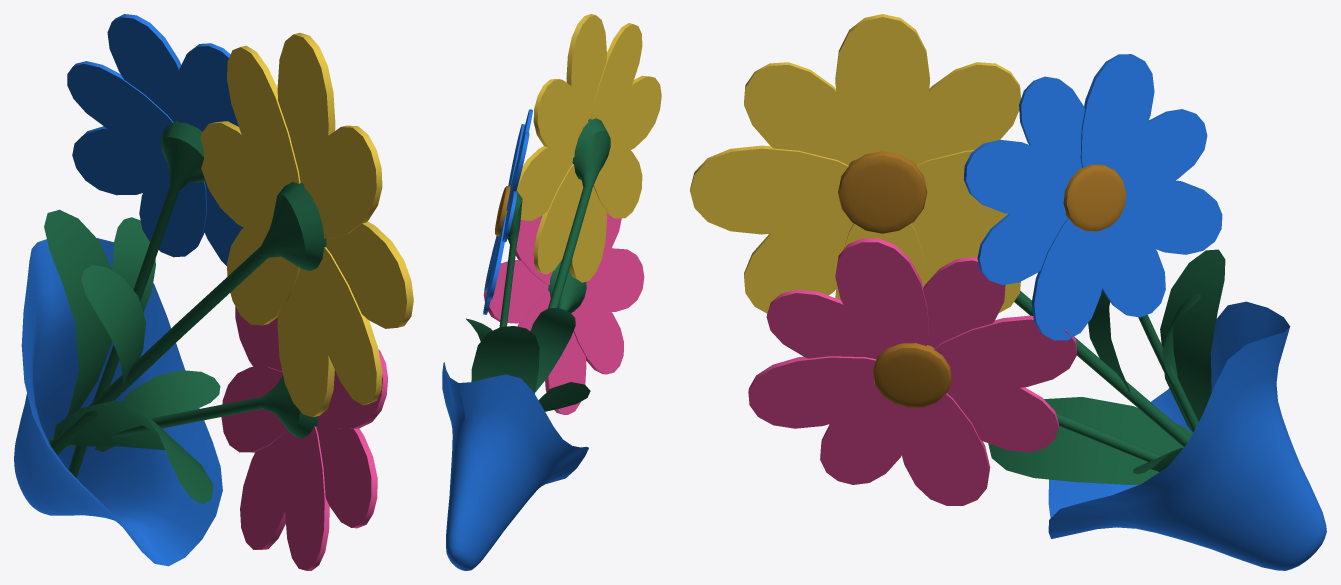
The picture shows the model from 3 angles, left to right: view 1: azimuth 30°, elevation 25°; view 2: azimuth 150°, elevation 25°; view 3: azimuth 270°, elevation 25°; orthographic projection. The views are drawn at different scales.
Visible parts, largest first — view 1: Circle.2019, Sphere.388, Circle.2020, Circle.2021, Circle.2022, Circle.2023, Circle.2024, Circle.2025, Circle.2026; view 2: Circle.2019, Sphere.388, Circle.2021, Circle.2020, Circle.2022, Circle.2024, Circle.2023; view 3: Circle.2019, Circle.2021, Circle.2020, Sphere.388, Circle.2023, Circle.2022, Circle.2024, Circle.2026.
Part boxes in pixels (left/top/right/bottom): Circle.2019: left=50, top=33, right=413, bottom=454; Sphere.388: left=14, top=238, right=222, bottom=566; Circle.2020: left=67, top=14, right=243, bottom=477; Circle.2021: left=47, top=306, right=387, bottom=570; Circle.2022: left=44, top=209, right=112, bottom=438; Circle.2023: left=53, top=400, right=213, bottom=503; Circle.2024: left=81, top=265, right=146, bottom=386; Circle.2025: left=95, top=370, right=220, bottom=451; Circle.2026: left=112, top=217, right=155, bottom=312; Circle.2019: left=516, top=14, right=661, bottom=308; Sphere.388: left=442, top=362, right=588, bottom=570; Circle.2021: left=483, top=213, right=644, bottom=414; Circle.2020: left=483, top=109, right=532, bottom=327; Circle.2022: left=471, top=326, right=539, bottom=393; Circle.2024: left=530, top=308, right=575, bottom=391; Circle.2023: left=538, top=382, right=590, bottom=411; Circle.2019: left=690, top=14, right=1190, bottom=446; Circle.2021: left=748, top=238, right=1161, bottom=505; Circle.2020: left=963, top=54, right=1222, bottom=432; Sphere.388: left=1048, top=301, right=1326, bottom=570; Circle.2023: left=988, top=397, right=1192, bottom=484; Circle.2022: left=1160, top=249, right=1225, bottom=432; Circle.2024: left=1088, top=290, right=1130, bottom=393; Circle.2026: left=1162, top=294, right=1200, bottom=383.
Bounding box in the file's own units: 0.5302 × 1.7 × 1.71.
